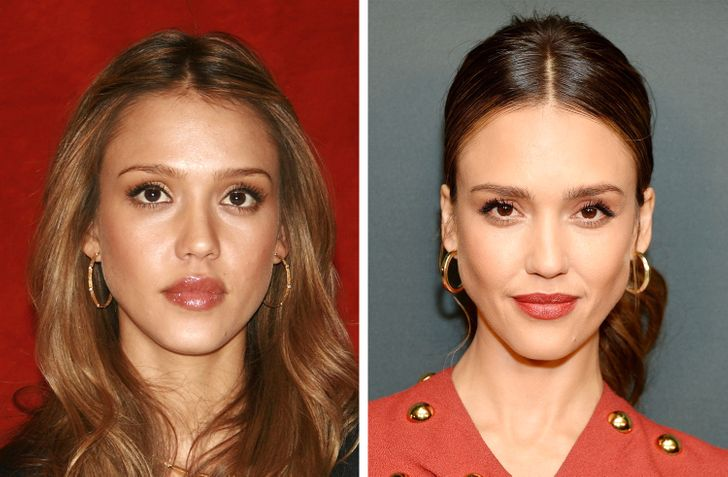woman: (47, 30, 334, 357), (440, 20, 654, 365)
